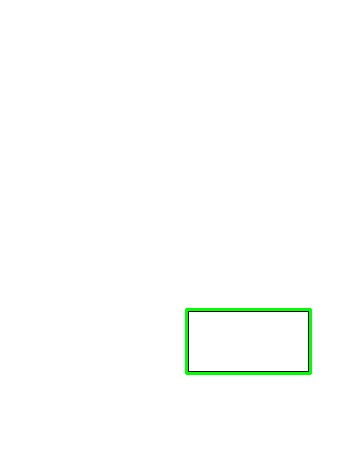line_segment: (185, 308, 312, 375)
